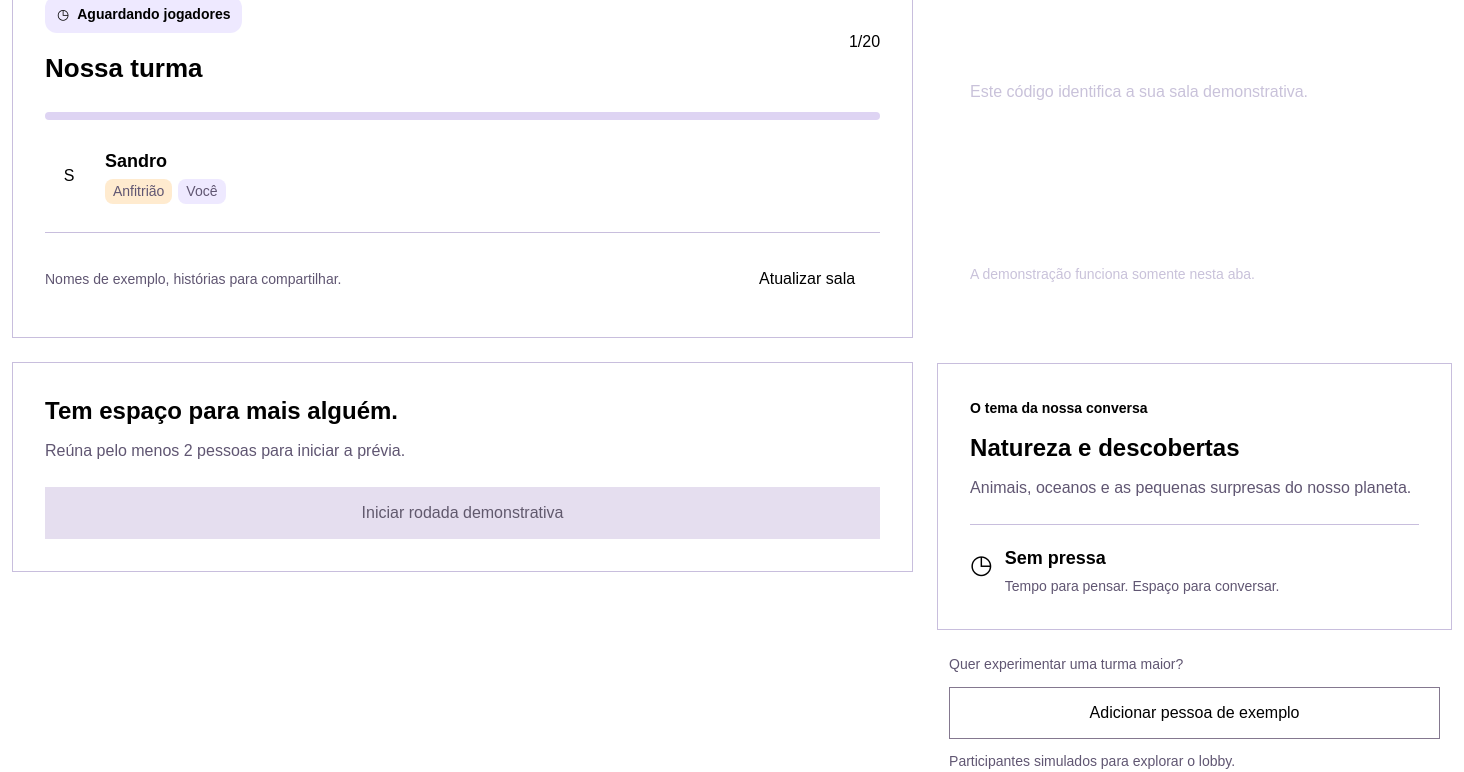
Test: passa de aguardando para pronta e em andamento na prévia do anfitrião
This screenshot has width=1464, height=772.
(page scrolled)
expect the text "Aguardando jogadores" is shown: met, box [77,6,230,22]
expect the button "Iniciar rodada demonstrativa" is disabled: met, box [45,487,880,539]
What coordinates should you click on to do the following:
click the button "Adicionar pessoa de exemplo"
I would click on:
 (1195, 713)
Its box is [949,687,1440,739].
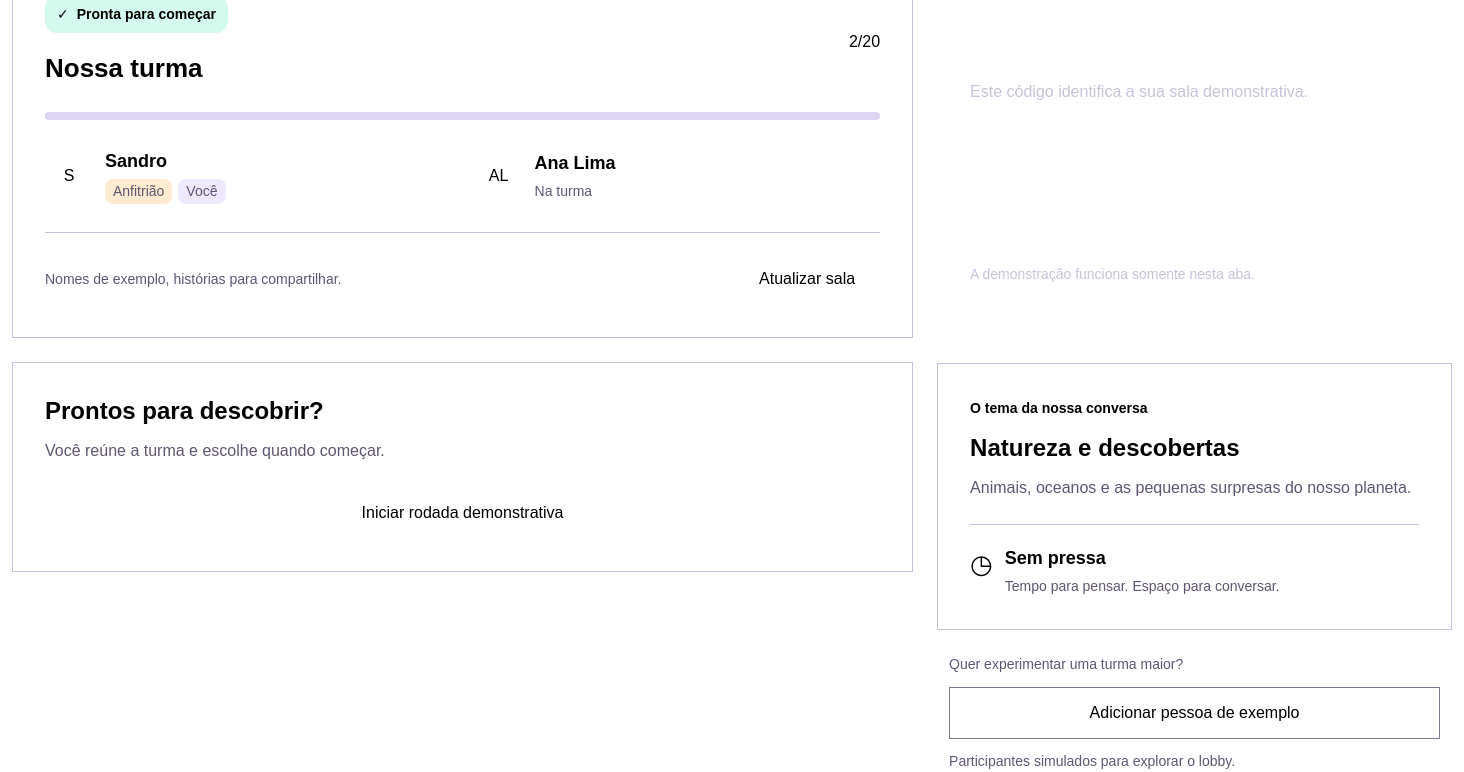
expect the text "Pronta para começar" is shown: met, box [77,6,216,22]
expect the button "Iniciar rodada demonstrativa" is enabled: met
expect the text "2/20" is shown: met, box [849,30,880,54]
What coordinates should you click on to do the following:
click the button "Iniciar rodada demonstrativa"
I would click on:
 (463, 513)
Its box is [45,487,880,539].
(page scrolled)
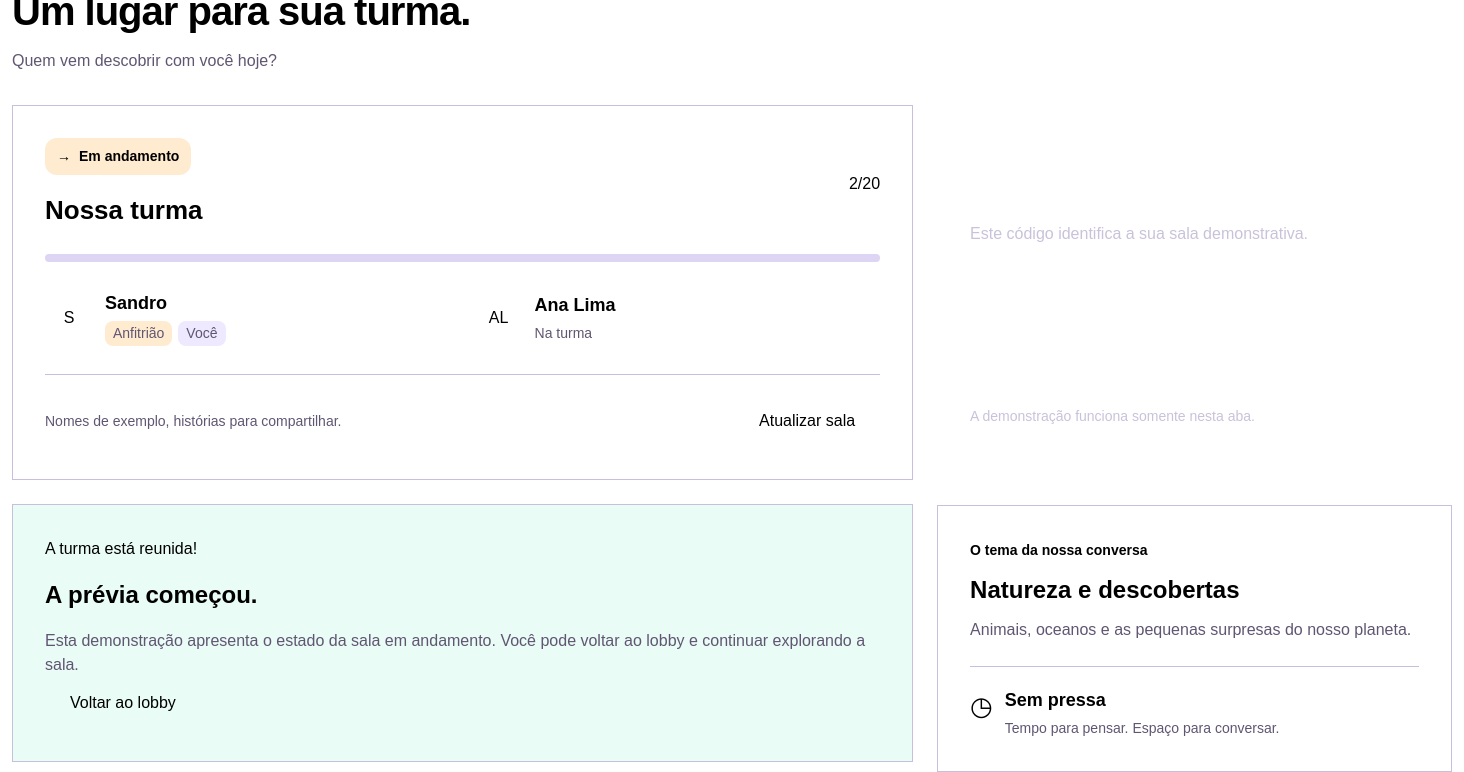
expect the text "Em andamento" is shown: met, box [79,148,179,164]
What coordinates should you click on to do the following:
click the button "Voltar ao lobby"
I would click on:
 (123, 703)
Its box is [45,677,201,729].
(page scrolled)
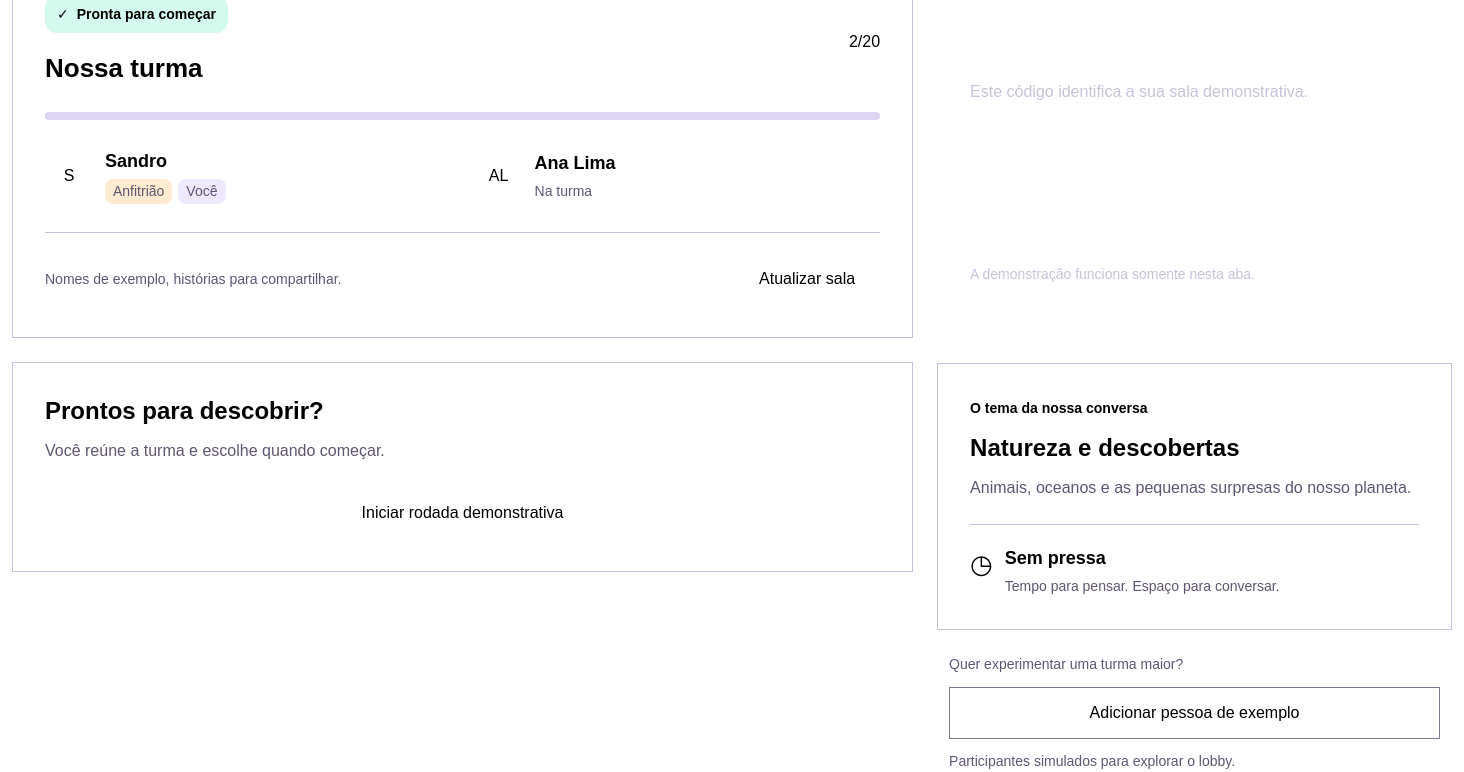
expect the text "Pronta para começar" is shown: met, box [77,6,216,22]
